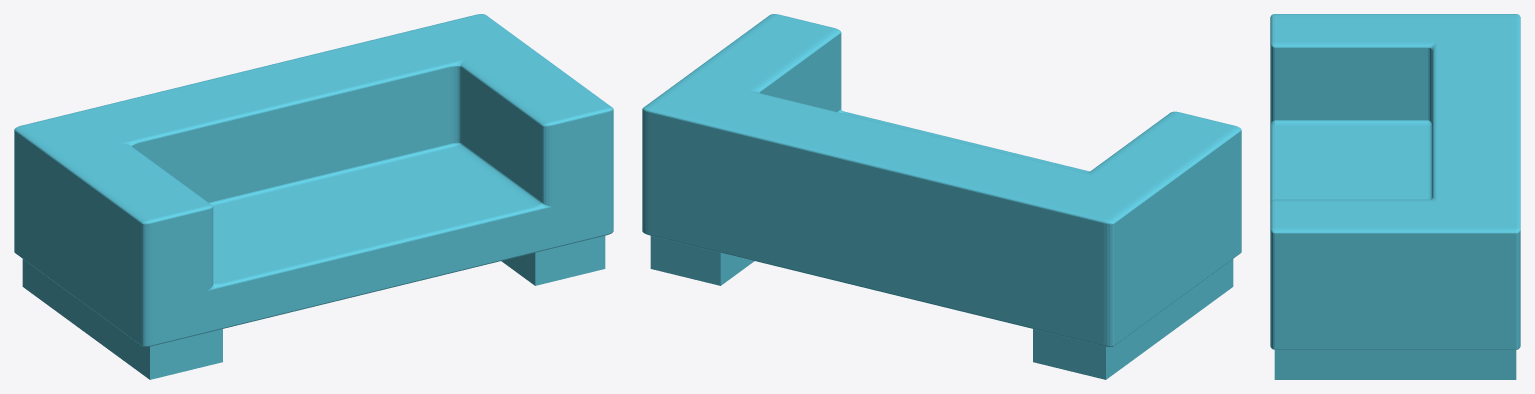
The model's file is sofa.gltf.
3 views of the same model, side by side, from view 1: azimuth 30°, elevation 25°; view 2: azimuth 150°, elevation 25°; view 3: azimuth 270°, elevation 25° (orthographic). The views are drawn at different scales.
Parts seen in each view (by area): view 1: Cube; view 2: Cube; view 3: Cube.
Boxes of the visible parts, x1,y1,x2,y2 form: Cube: (14, 14, 613, 379); Cube: (642, 14, 1241, 379); Cube: (1270, 14, 1520, 379).
Size of the model in its own units: 7.81 by 2.54 by 3.78.
